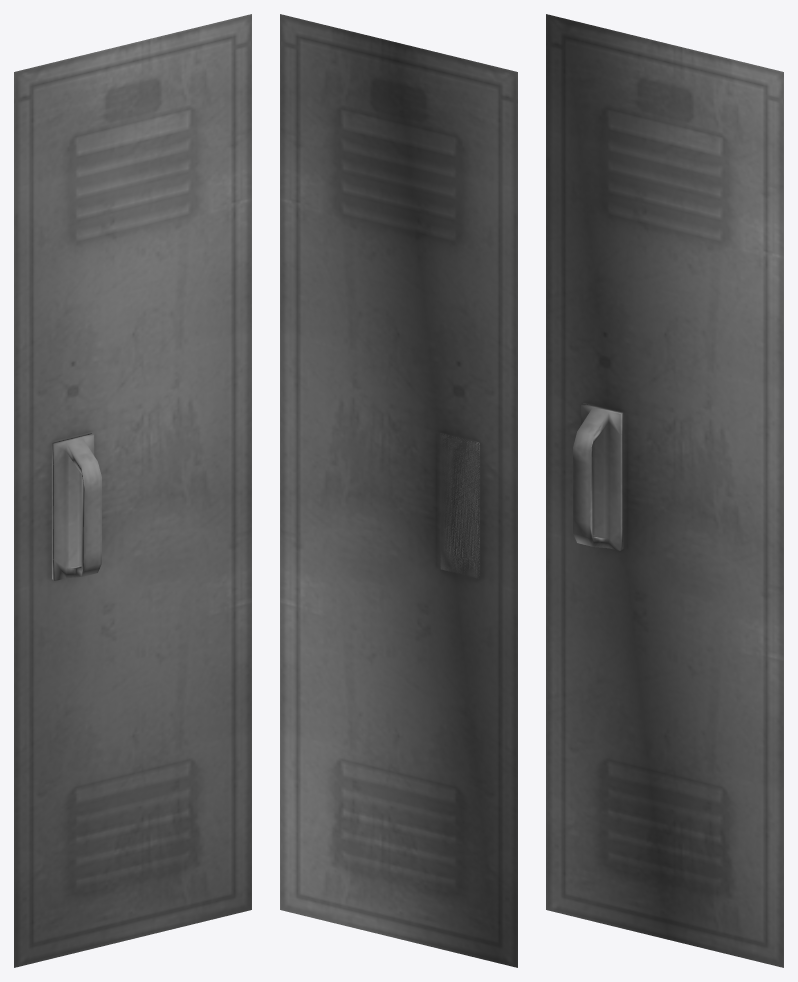
File: locker_door.glb
The picture shows the model from 3 angles, left to right: view 1: azimuth 30°, elevation 25°; view 2: azimuth 150°, elevation 25°; view 3: azimuth 330°, elevation 25°; orthographic projection.
Visible parts, largest first — view 1: Object_2; view 2: Object_2; view 3: Object_2.
Part boxes in pixels (x1,y1,x2,y2): Object_2: (14, 14, 251, 967); Object_2: (280, 14, 517, 967); Object_2: (546, 14, 783, 967).
Bounding box in the file's own units: 0.5 × 1.8 × 0.081.
1 material, 1 textured.
